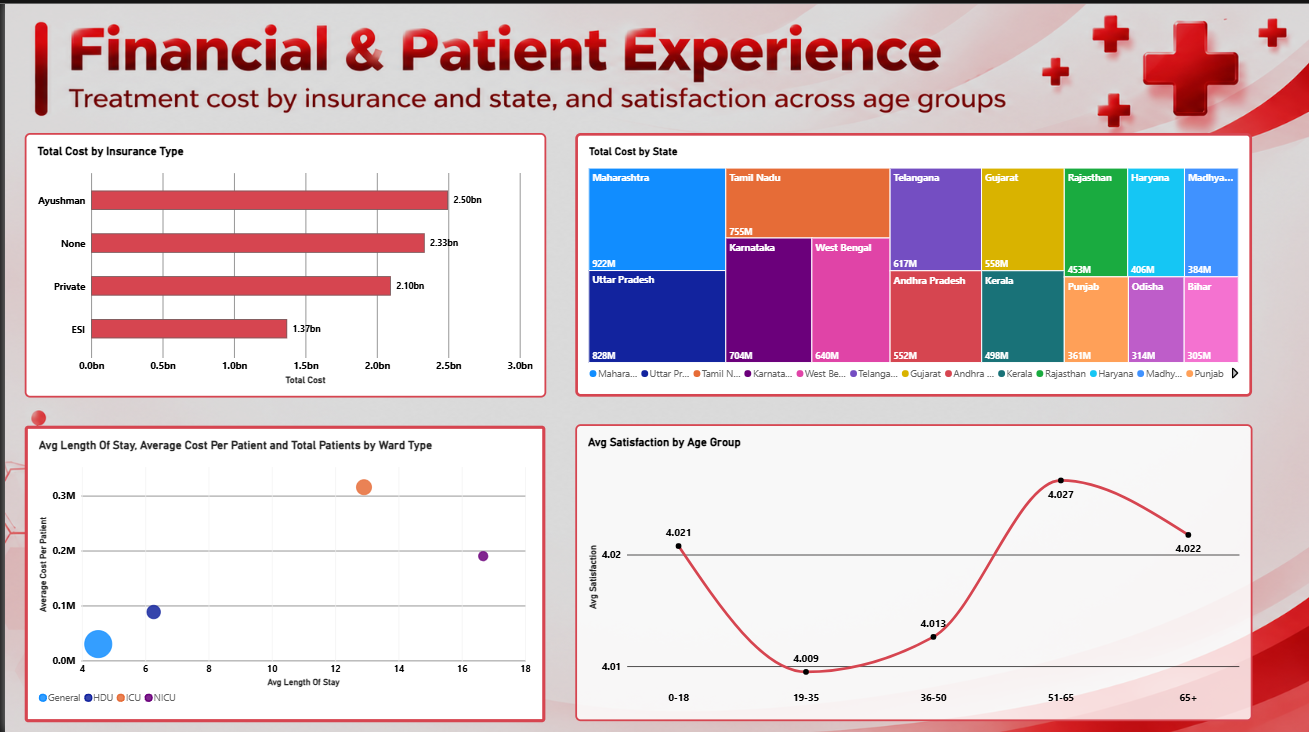

What the dashboard file says about the page in this screenshot:
{"tool":"powerbi","page":{"name":"Financial & Experience","canvas":[1920,1080],"ordinal":2},"visuals":[{"type":"clusteredBarChart","fields":{"Category":["HEALTHCARE.Insurance Type"],"Y":["HEALTHCARE.Total Cost"]},"box":[28,198,764,388],"z":0},{"type":"treemap","fields":{"Group":["HEALTHCARE.State"],"Values":["HEALTHCARE.Total Cost"]},"box":[835,198.3,991.7,386.7],"z":1000},{"type":"scatterChart","fields":{"Series":["HEALTHCARE.Ward Type"],"Size":["HEALTHCARE.Total Patients"],"X":["HEALTHCARE.Avg Length Of Stay"],"Y":["HEALTHCARE.Average Cost Per Patient"]},"box":[28.6,625.7,762.9,434.3],"z":2000},{"type":"lineChart","fields":{"Category":["HEALTHCARE.Age Group"],"Y":["HEALTHCARE.Avg Satisfaction"]},"box":[835,625,992.5,435],"z":3000}]}

Visuals, with their boxes in screenshot pixels (x1, y1, x2, y2), scaled from the page's 1920x1080 canvas onto the 1309x732 screenshot:
clusteredBarChart - HEALTHCARE.Insurance Type x HEALTHCARE.Total Cost: (19, 134, 540, 397)
treemap - HEALTHCARE.State x HEALTHCARE.Total Cost: (569, 134, 1245, 396)
scatterChart - HEALTHCARE.Ward Type x HEALTHCARE.Total Patients: (19, 424, 540, 718)
lineChart - HEALTHCARE.Age Group x HEALTHCARE.Avg Satisfaction: (569, 424, 1246, 718)
